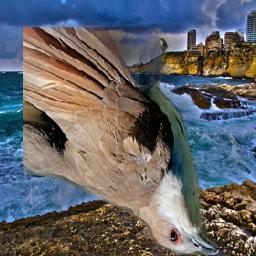Cuckoo: (23, 27, 219, 255)
